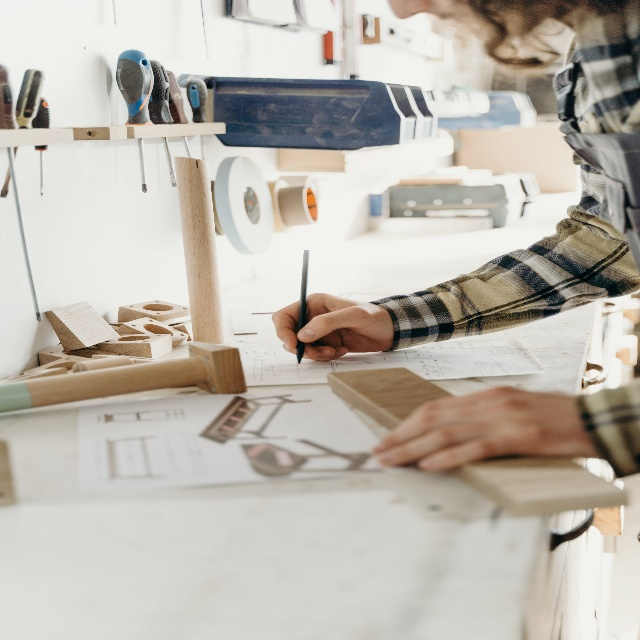Sin_guantes: (368, 395, 582, 470), (271, 293, 391, 361)
